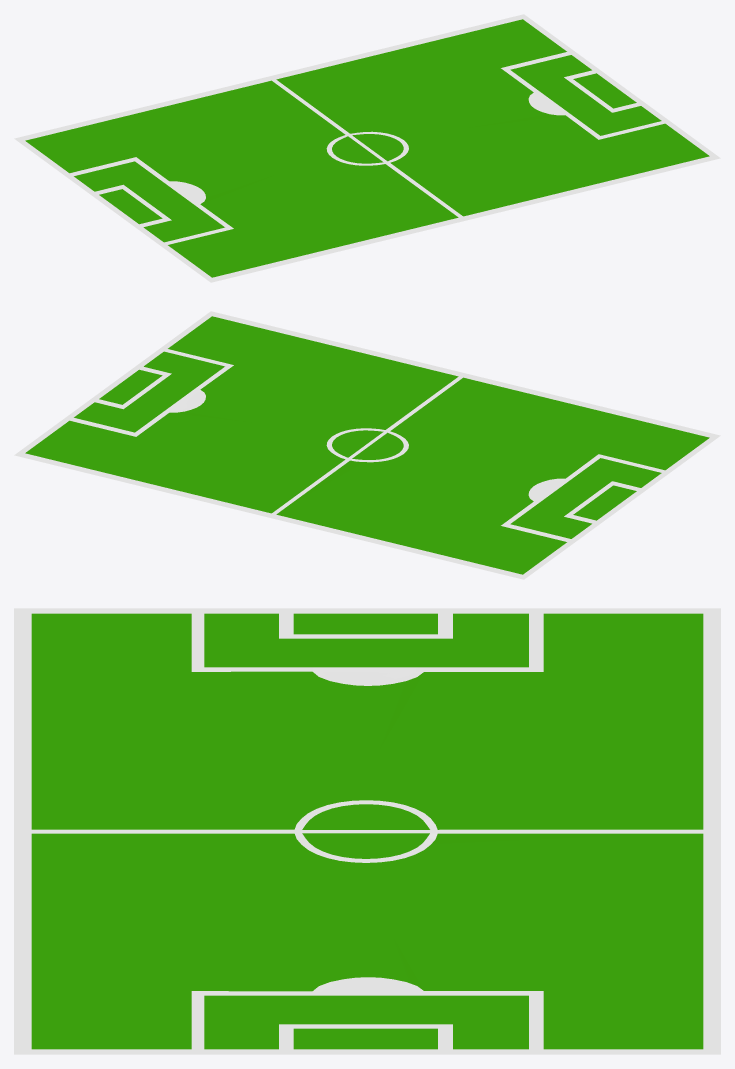
File: SM_Footbal_Field.fbx
The picture shows the model from 3 angles, top to bottom: view 1: azimuth 30°, elevation 25°; view 2: azimuth 150°, elevation 25°; view 3: azimuth 270°, elevation 25°; orthographic projection. The views are drawn at different scales.
Parts seen in each view (by area): view 1: SM_Footbal_Field; view 2: SM_Footbal_Field; view 3: SM_Footbal_Field.
Part boxes in pixels (x1,y1,x2,y2): SM_Footbal_Field: (14, 14, 720, 282); SM_Footbal_Field: (14, 311, 720, 579); SM_Footbal_Field: (14, 608, 720, 1054).
Bounding box in the file's own units: 6133 × 3.04 × 4103.
